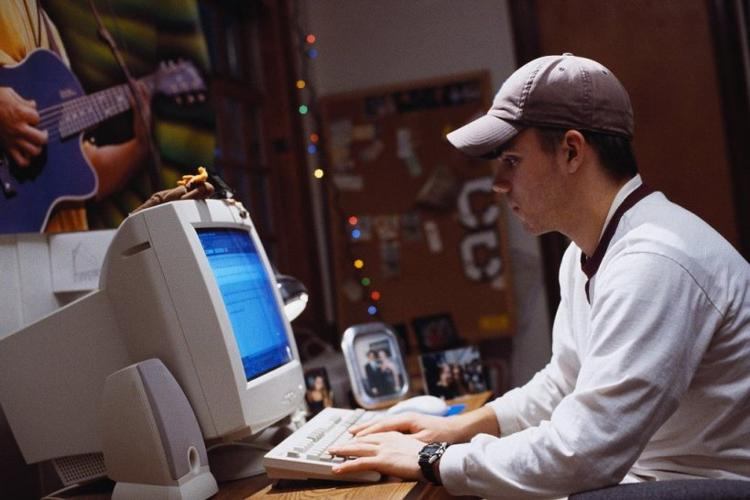person: (328, 51, 750, 500)
